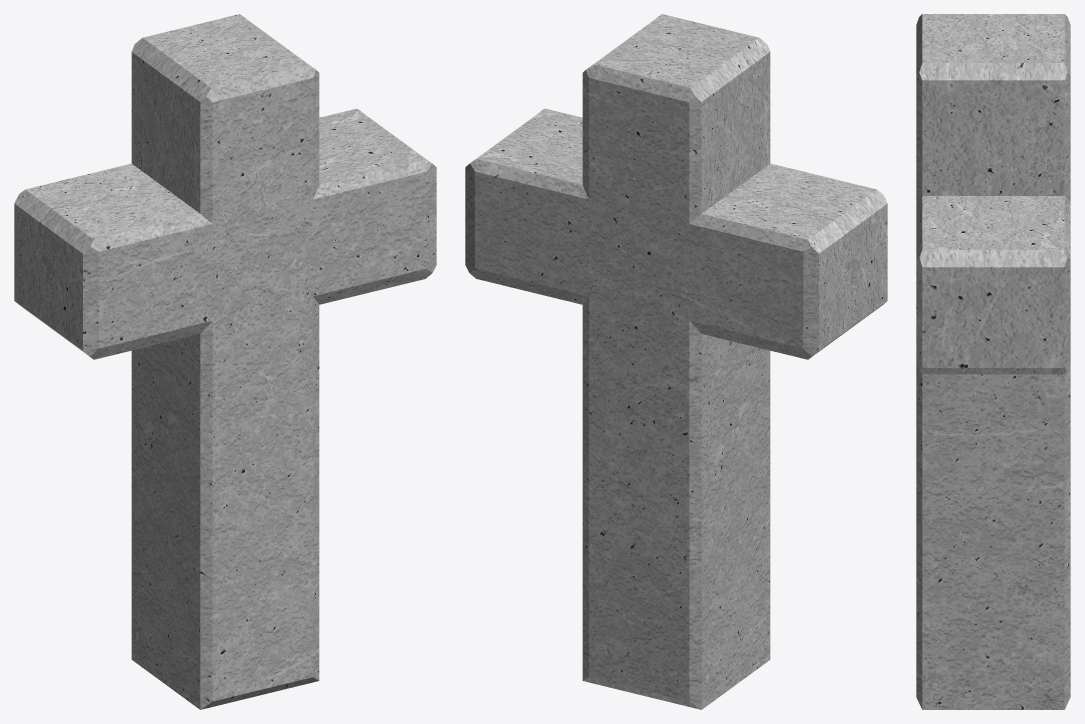
File: Cross.fbx
3 views of the same model, side by side, from view 1: azimuth 30°, elevation 25°; view 2: azimuth 150°, elevation 25°; view 3: azimuth 270°, elevation 25° (orthographic). The views are drawn at different scales.
Visible parts, largest first — view 1: Cross; view 2: Cross; view 3: Cross.
Boxes of the visible parts, x1,y1,x2,y2 form: Cross: (14,14,436,709); Cross: (465,14,887,709); Cross: (916,14,1070,709).
Size of the model in its own units: 2.97 by 4.97 by 1.09.
Materials: 1 (1 with a texture image).
